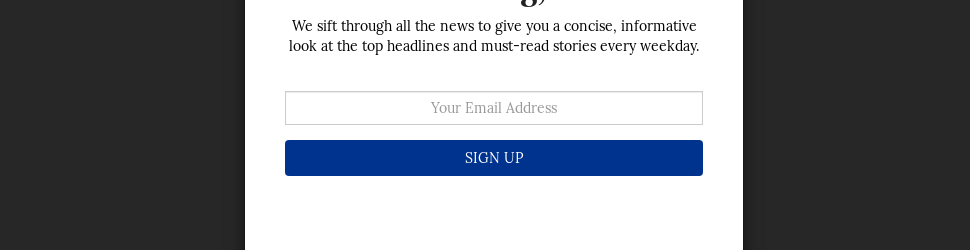fake_button: (272, 135, 723, 193)
